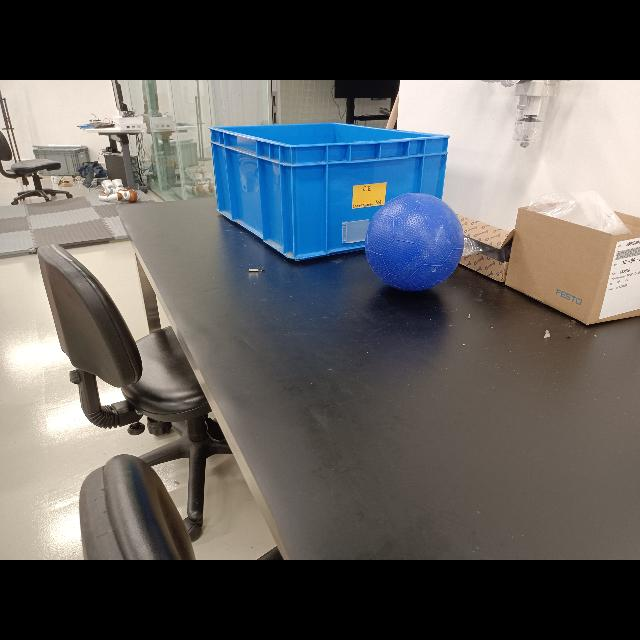B: (361, 194, 469, 296)
